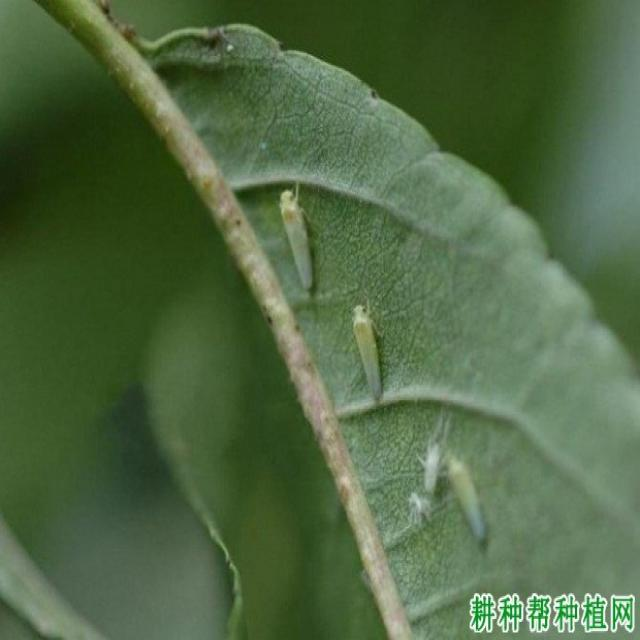Yechan: (273, 182, 320, 296), (344, 301, 390, 405)
